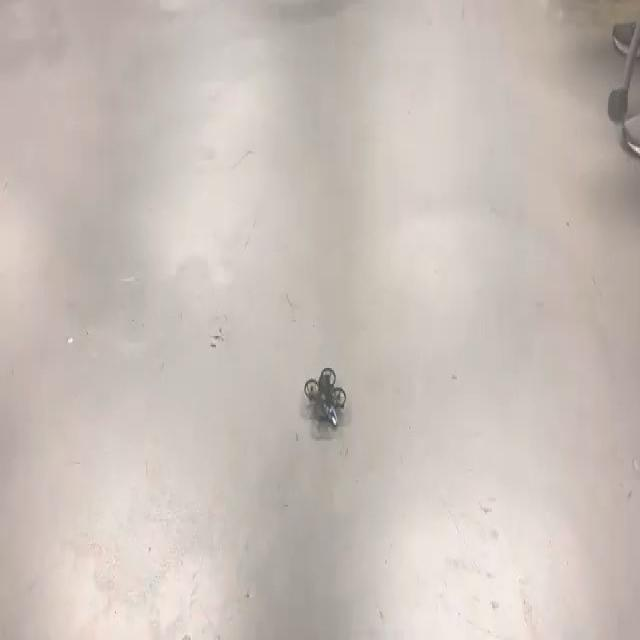drone: (297, 351, 354, 446)
